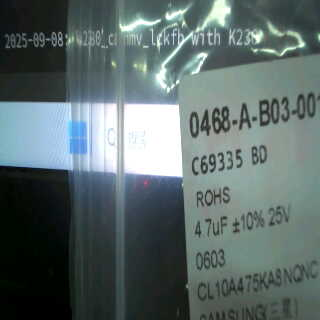4.7uF: (190, 211, 231, 243)
